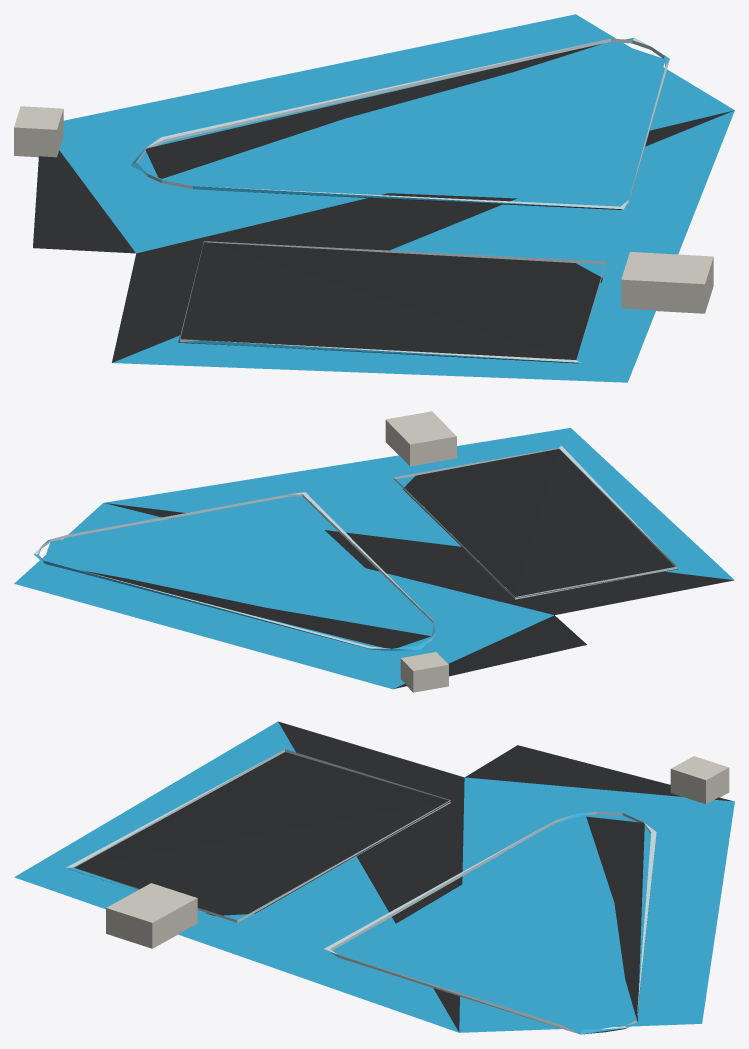
The model's file is brediusbad.lod2.glb.
The picture shows the model from 3 angles, top to bottom: view 1: azimuth 30°, elevation 25°; view 2: azimuth 150°, elevation 25°; view 3: azimuth 270°, elevation 25°; orthographic projection. The views are drawn at different scales.
Visible parts, largest first — view 1: lod2; view 2: lod2; view 3: lod2.
Part boxes in pixels (<box>): lod2: <box>14,14,734,382</box>; lod2: <box>14,411,734,692</box>; lod2: <box>14,721,734,1034</box>.
Bounding box in the file's own units: 69.89 × 2.7 × 68.
